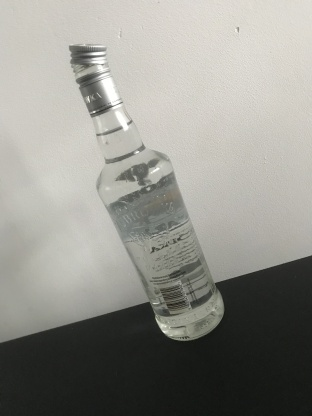nakretka: (66, 40, 124, 119)
